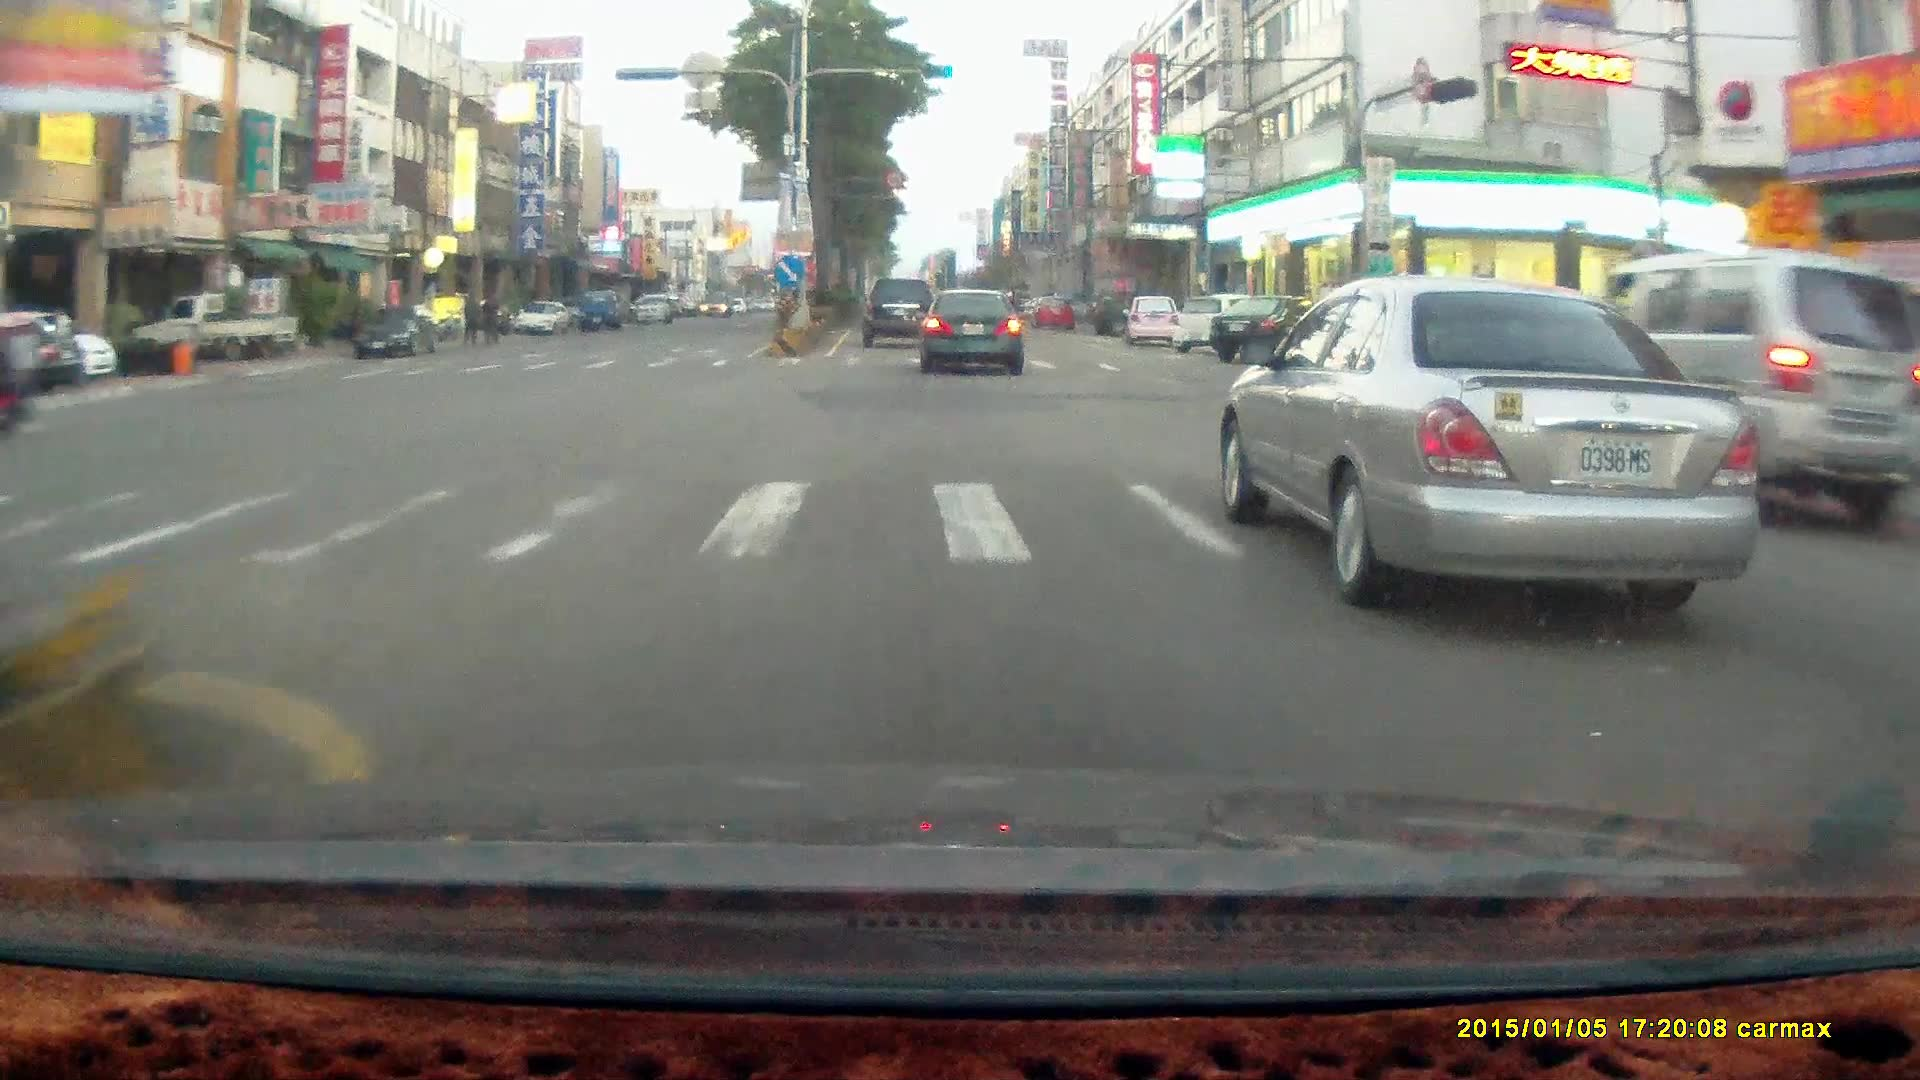pedestrian: (483, 281, 507, 343), (460, 287, 482, 346), (480, 289, 501, 346), (460, 289, 480, 348)
vehicle: (1225, 284, 1762, 603), (1563, 251, 1917, 530), (1562, 255, 1920, 511), (128, 293, 299, 373), (126, 292, 297, 367), (923, 292, 1030, 381), (920, 287, 1023, 375), (1208, 291, 1337, 360), (1214, 296, 1328, 364), (1, 318, 88, 402), (348, 300, 447, 362), (1175, 293, 1272, 355), (0, 316, 78, 391), (861, 276, 935, 352), (861, 277, 937, 348), (355, 308, 439, 358), (1119, 296, 1181, 349), (1091, 290, 1161, 336), (1126, 295, 1182, 348), (512, 300, 574, 338), (512, 301, 568, 335), (577, 288, 617, 329), (1031, 293, 1074, 328), (635, 294, 671, 323)
